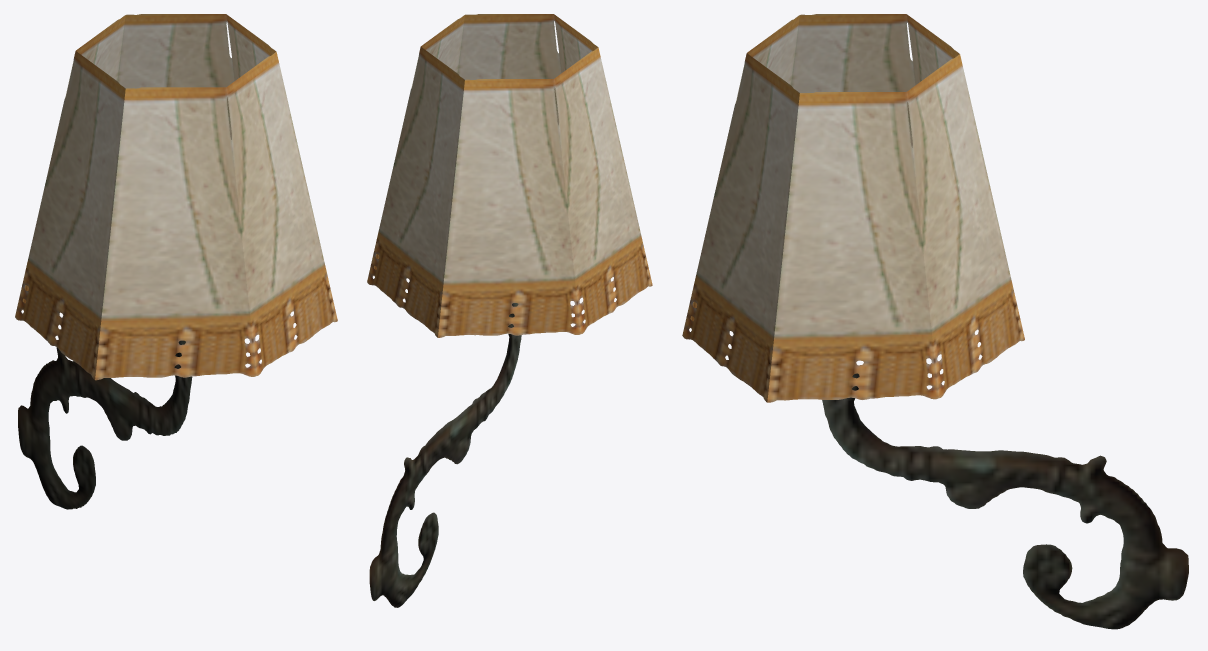
The model's file is Lamp off.fbx.
3 renders of one model, left to right at view 1: azimuth 30°, elevation 25°; view 2: azimuth 150°, elevation 25°; view 3: azimuth 270°, elevation 25°, orthographic. The views are drawn at different scales.
Parts seen in each view (by area): view 1: Lamp off; view 2: Lamp off; view 3: Lamp off.
Part boxes in pixels (x1,y1,x2,y2): Lamp off: [15, 14, 337, 509]; Lamp off: [367, 14, 652, 607]; Lamp off: [682, 14, 1188, 629].
Bounding box in the file's own units: 59.39 × 129 × 102.
1 material, 1 textured.
